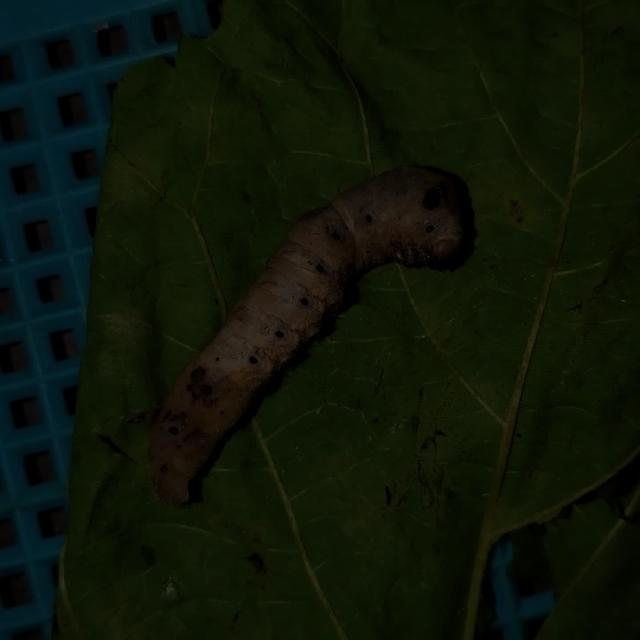Grasserie: (128, 107, 486, 551)
